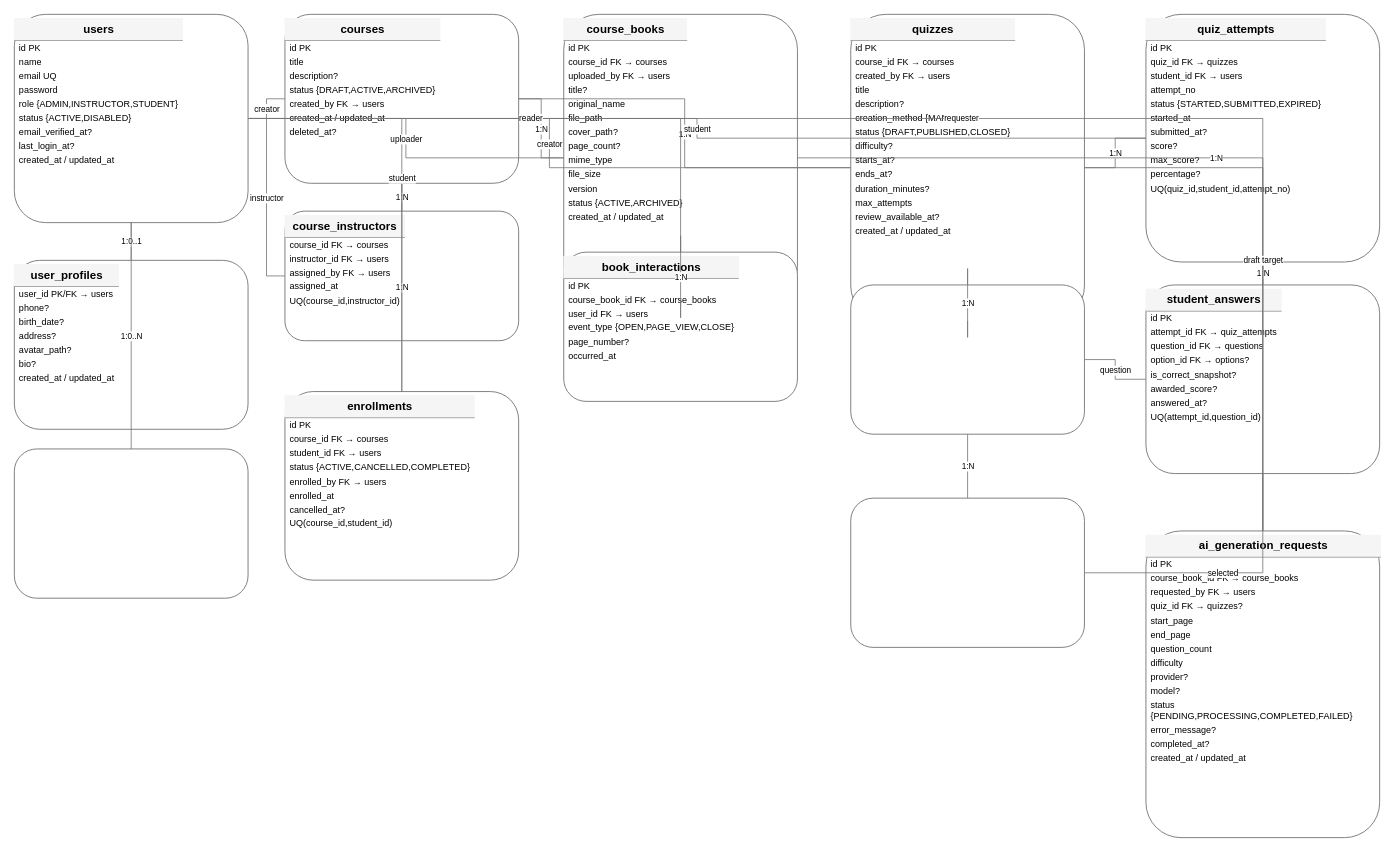
The diagram is 1396 pixels wide and 852 high, and some of its shapes have lost their labels. Here are the shapes that lost their labels. From the top down, the centre of each, then its label:
At point (967, 359): "questions id PK quiz_id FK → quizzes text score position deleted_at?".
At point (131, 523): "sessions id PK user_id FK → users? ip_address? user_agent? payload last_activity".
At point (967, 572): "options id PK question_id FK → questions text is_correct position deleted_at?".
